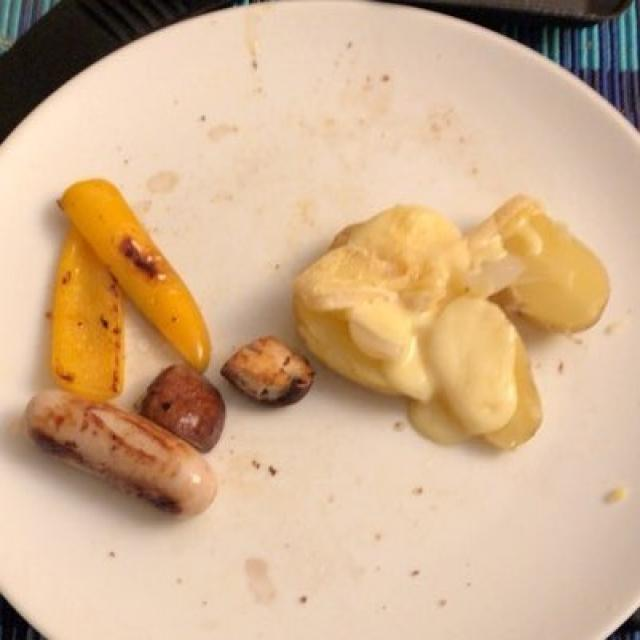bell-pepper: (49, 178, 217, 409)
cheese: (312, 212, 541, 435)
mushroom: (153, 334, 305, 449)
potatoes: (289, 207, 611, 457)
